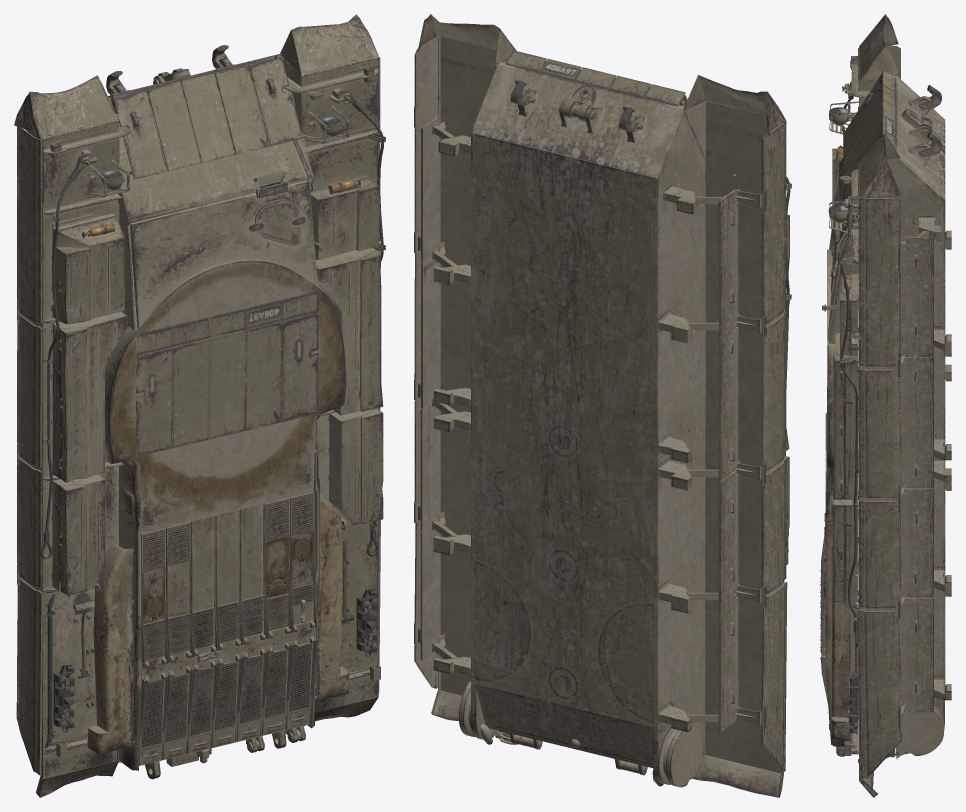
Rendered from Hull.glb.
3 views of the same model, side by side, from view 1: azimuth 30°, elevation 25°; view 2: azimuth 150°, elevation 25°; view 3: azimuth 270°, elevation 25° (orthographic). The views are drawn at different scales.
Visible parts, largest first — view 1: set_0_group_0, set_0_group_1; view 2: set_0_group_0; view 3: set_0_group_0, set_0_group_1.
Boxes of the visible parts, x1,y1,x2,y2 form: set_0_group_0: (14,14,385,797); set_0_group_1: (108,53,281,179); set_0_group_0: (414,14,791,797); set_0_group_0: (820,14,951,797); set_0_group_1: (843,71,895,193).
Bounding box in the file's own units: 4.03 × 7.75 × 1.44.
2 materials, 2 textured.
